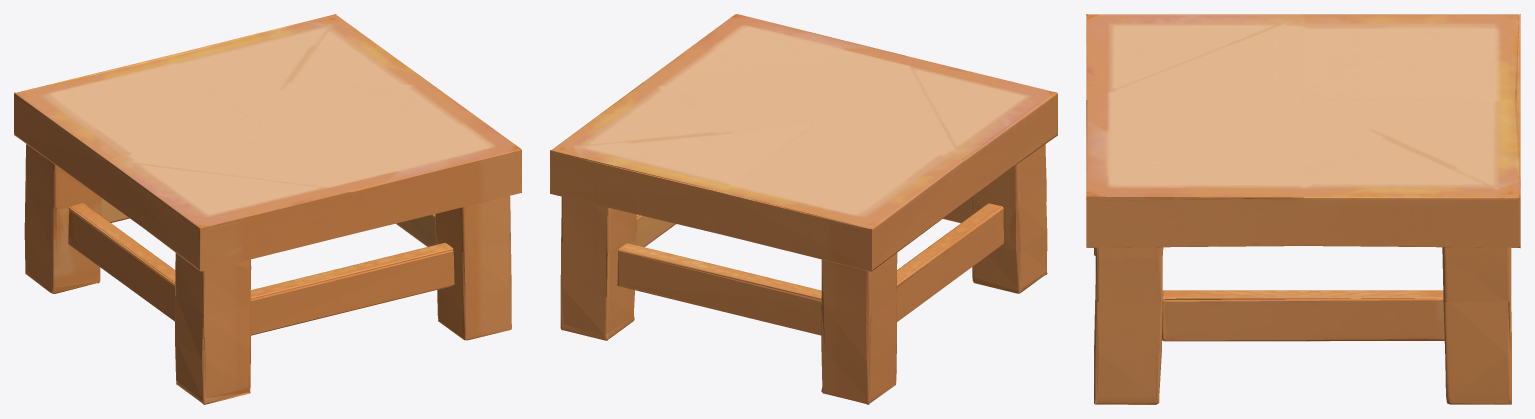
The model's file is towerPlatform.glb.
3 views of the same model, side by side, from view 1: azimuth 30°, elevation 25°; view 2: azimuth 150°, elevation 25°; view 3: azimuth 270°, elevation 25° (orthographic). The views are drawn at different scales.
Size of the model in its own units: 1 by 0.541 by 1.
Materials: 1 (1 with a texture image).
